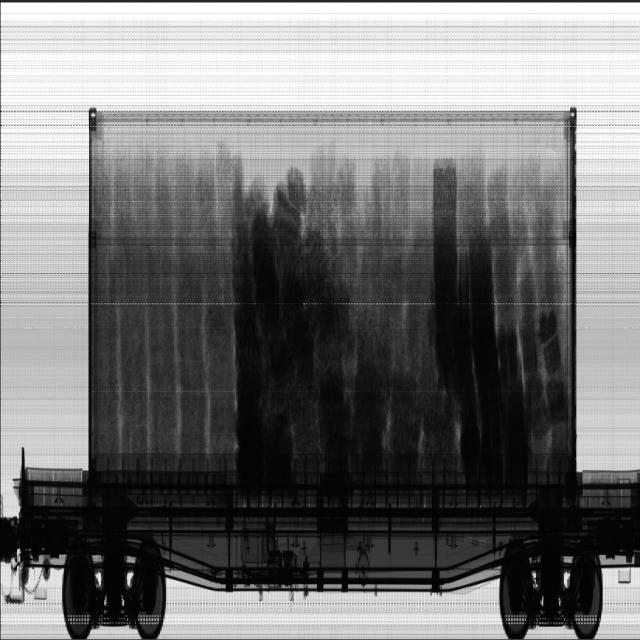clothes: (432, 237, 530, 489)
